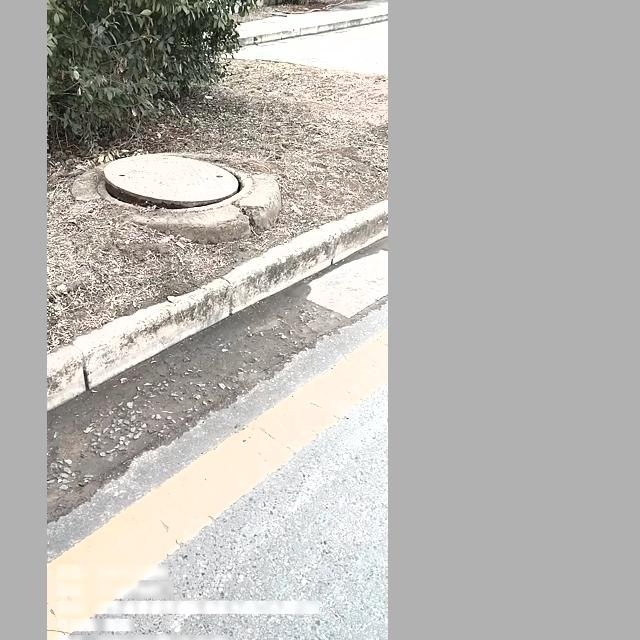uncovered: (91, 153, 250, 214)
